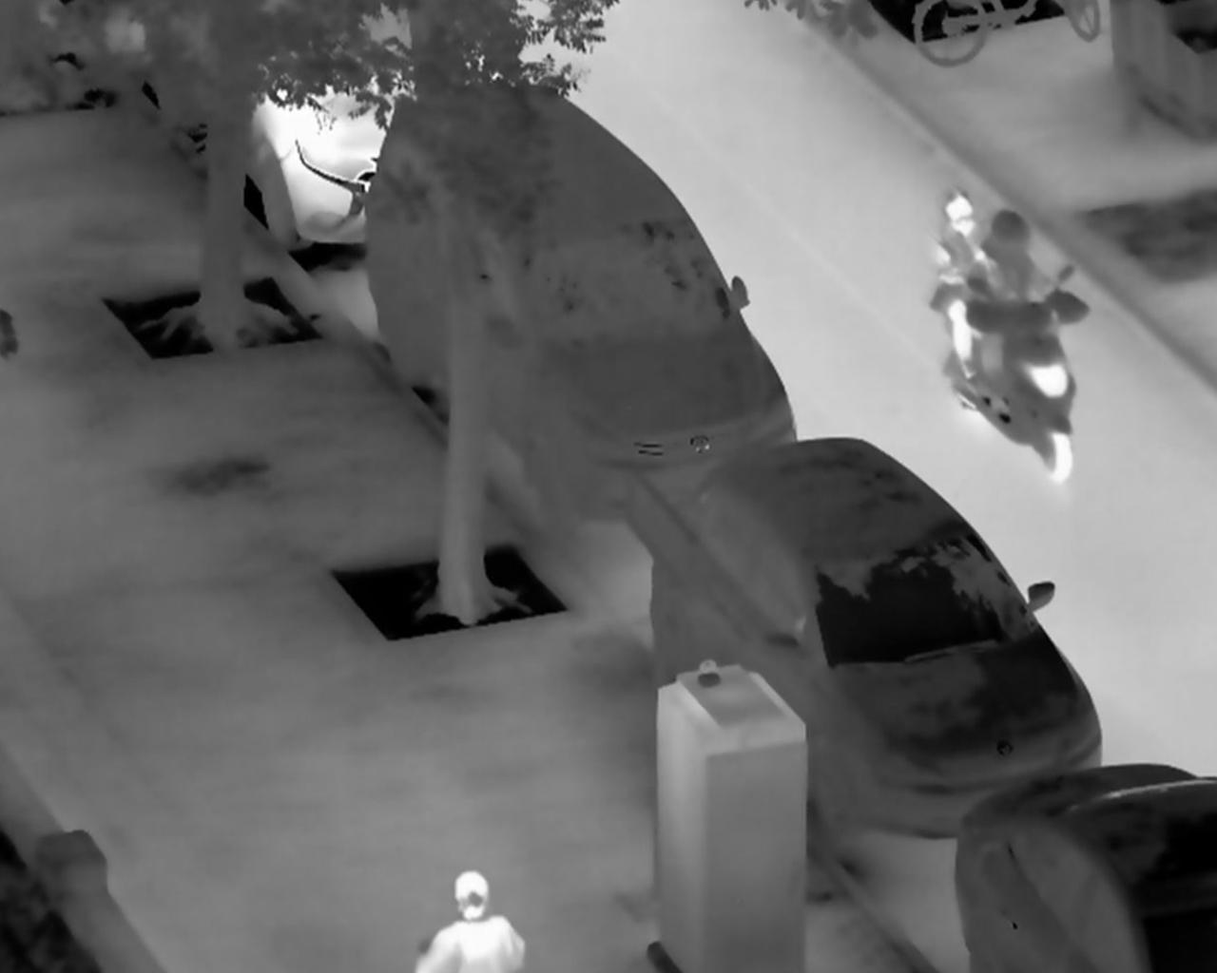person: (931, 188, 1007, 391)
